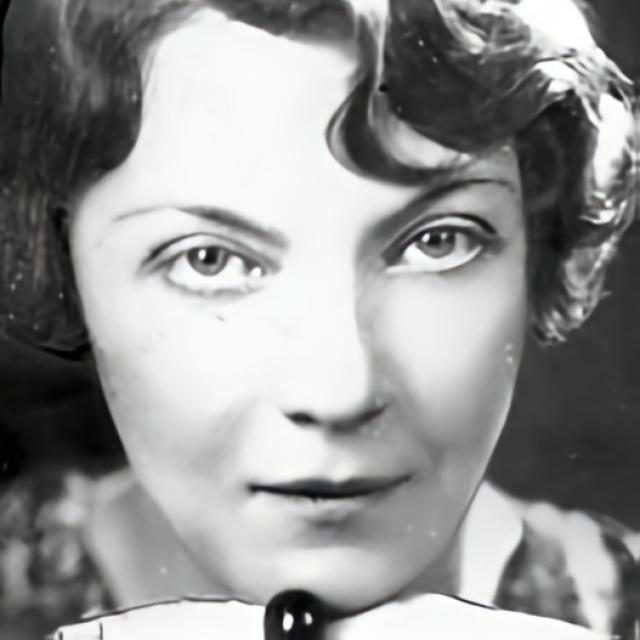content: (71, 4, 533, 614)
